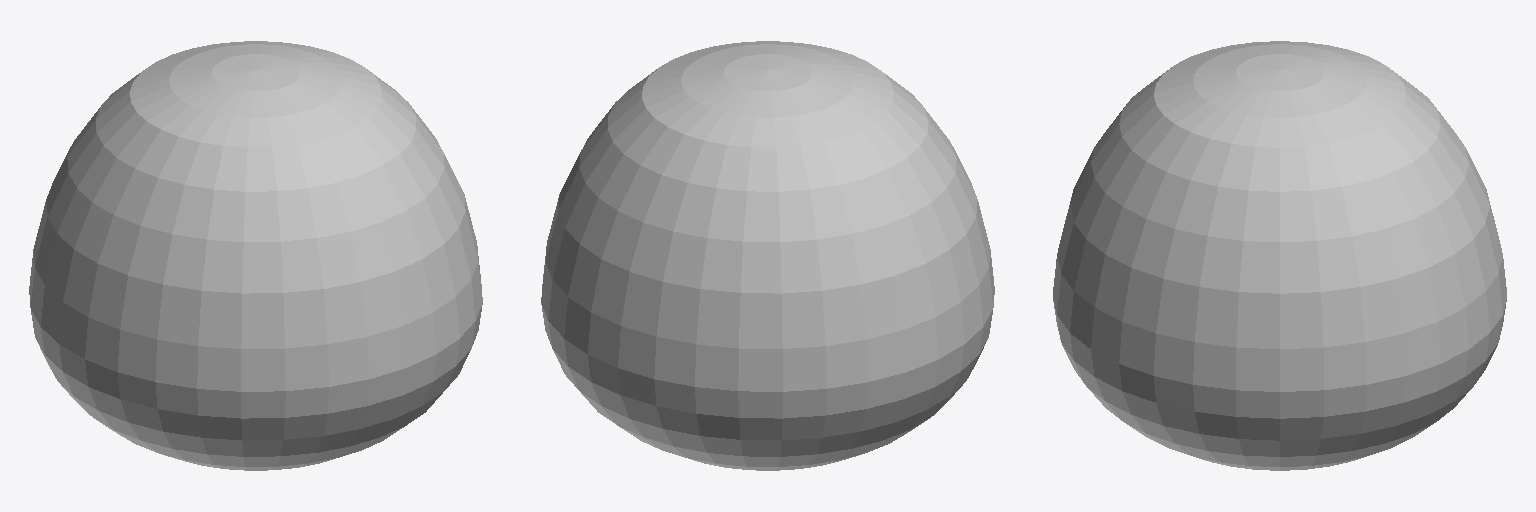
The model's file is slime_hulls.obj.
The picture shows the model from 3 angles: view 1: azimuth 30°, elevation 25°; view 2: azimuth 150°, elevation 25°; view 3: azimuth 270°, elevation 25°; orthographic projection.
Parts seen in each view (by area): view 1: Mesh_Sphere; view 2: Mesh_Sphere; view 3: Mesh_Sphere.
Boxes of the visible parts, box(x1,y1,x2,y2) form: Mesh_Sphere: box(29, 41, 482, 470); Mesh_Sphere: box(541, 41, 994, 470); Mesh_Sphere: box(1053, 41, 1506, 470).
Size of the model in its own units: 2 by 1.81 by 2.